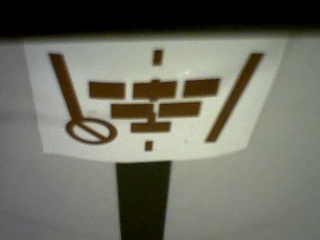Clearing_Zone: (46, 52, 265, 154)
